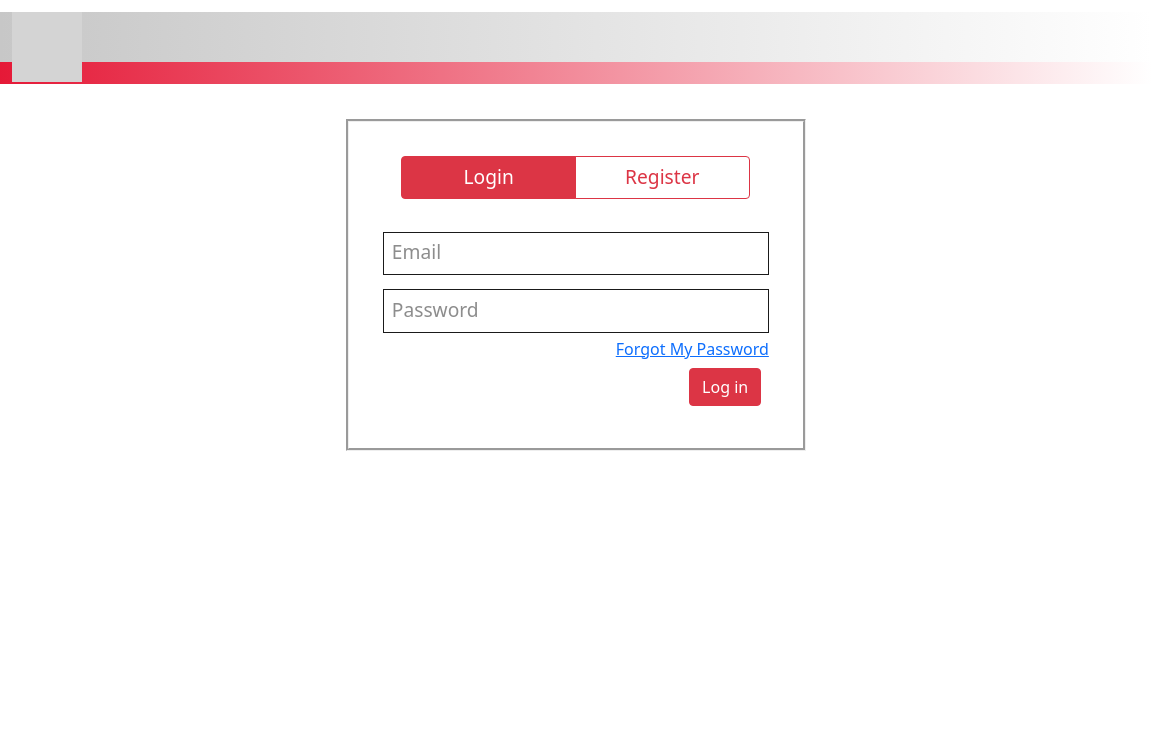
Test case: register checks › passes email check
Click the text "Register" at point(662, 178), box [575,156,750,199]
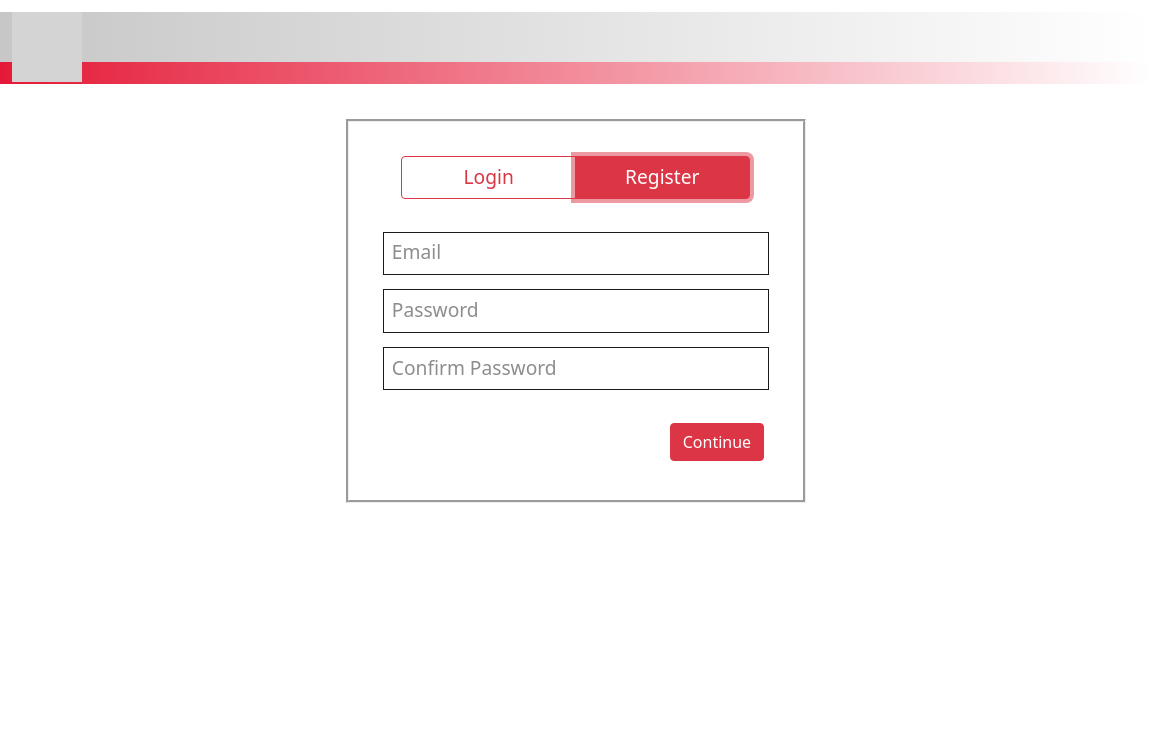
Type "123@a.bc" into the field with placeholder "Email" at point(576, 253), box [383,232,769,275]
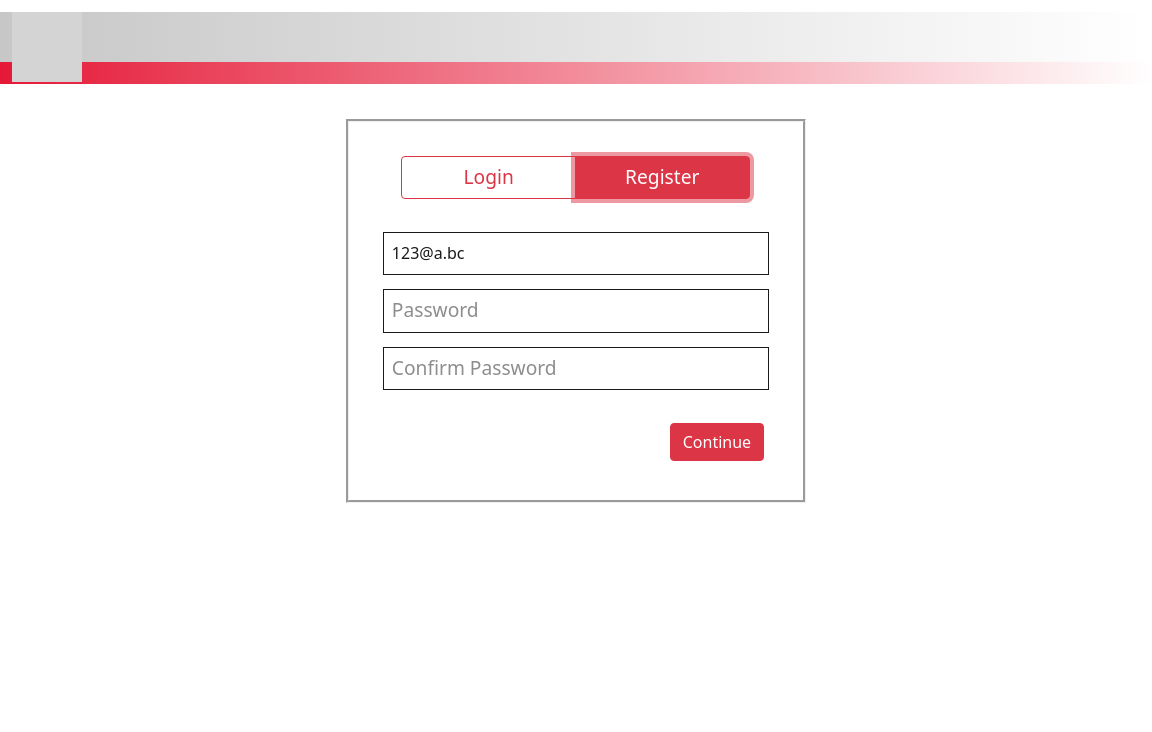
Click the button "Continue" at point(717, 442), box [670,423,764,461]
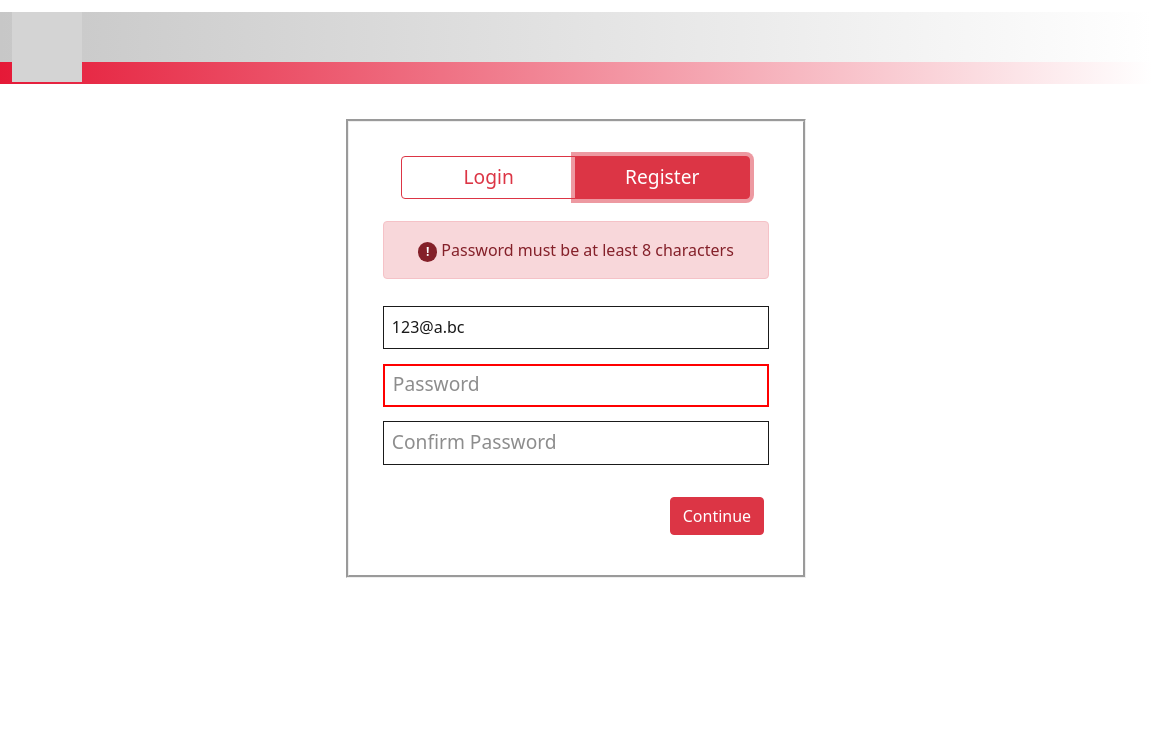
expect the text "Password must be at least 8 characters" is shown: met, box [437,239,734,261]
